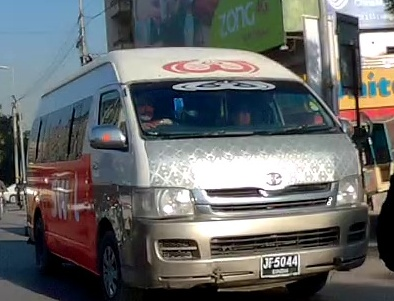van: (24, 47, 369, 301)
